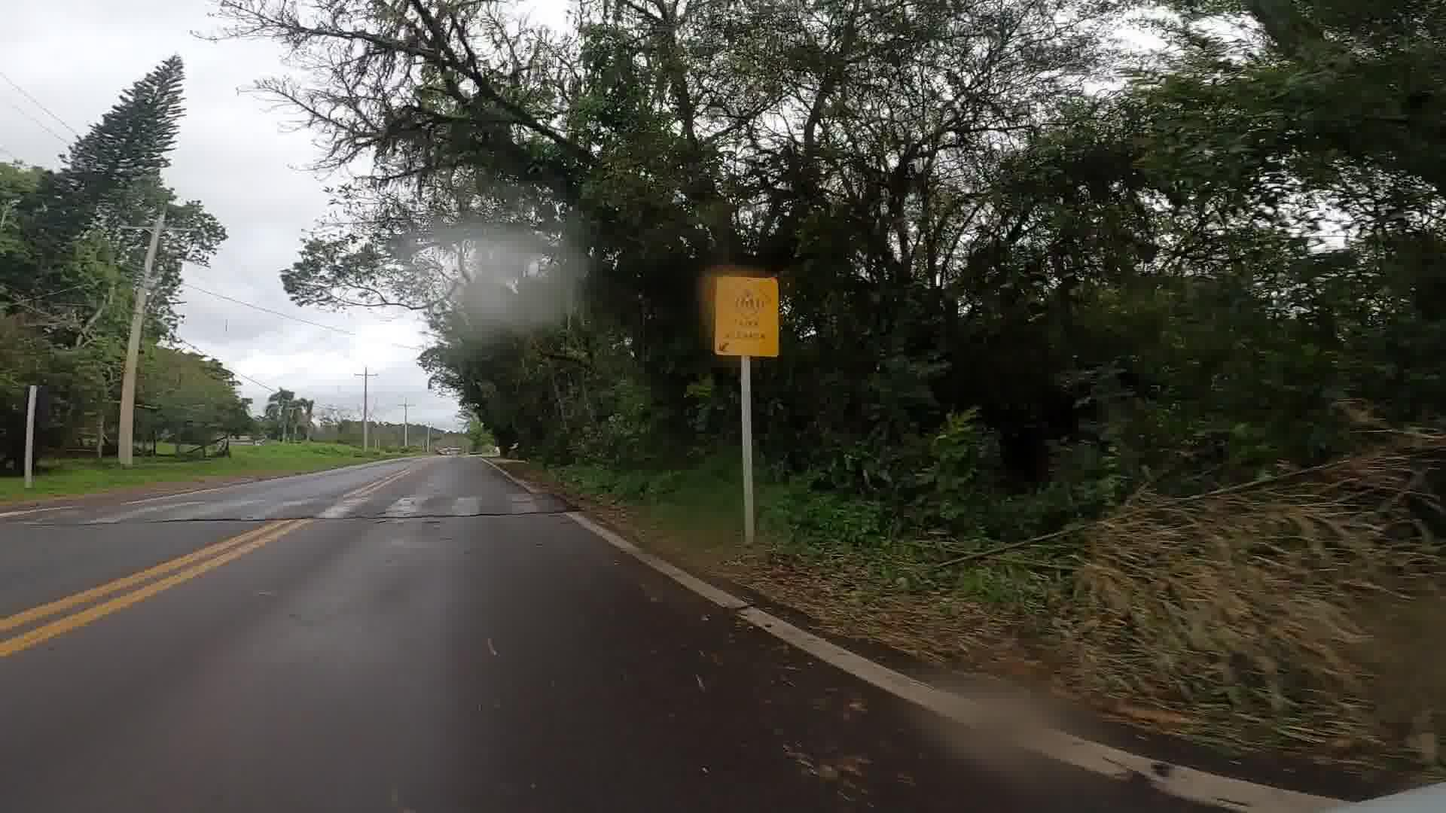A-32b: (723, 279, 773, 330)
